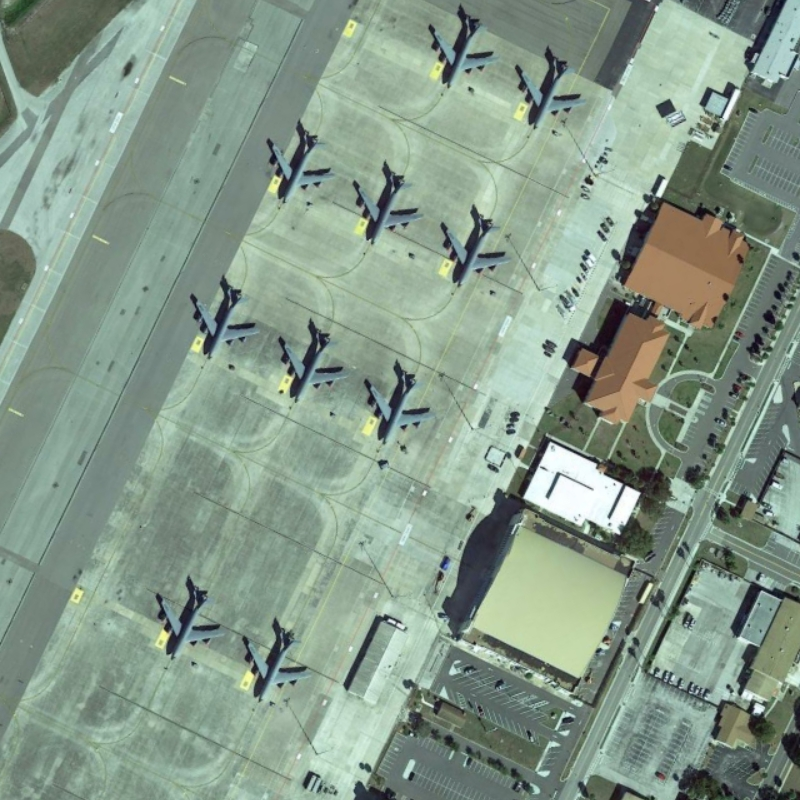A14: (366, 364, 440, 448), (277, 326, 352, 407), (353, 167, 427, 249), (515, 54, 591, 133), (241, 623, 314, 705), (426, 14, 502, 92), (155, 583, 229, 662), (267, 127, 340, 207), (193, 281, 263, 363), (442, 212, 515, 290)
